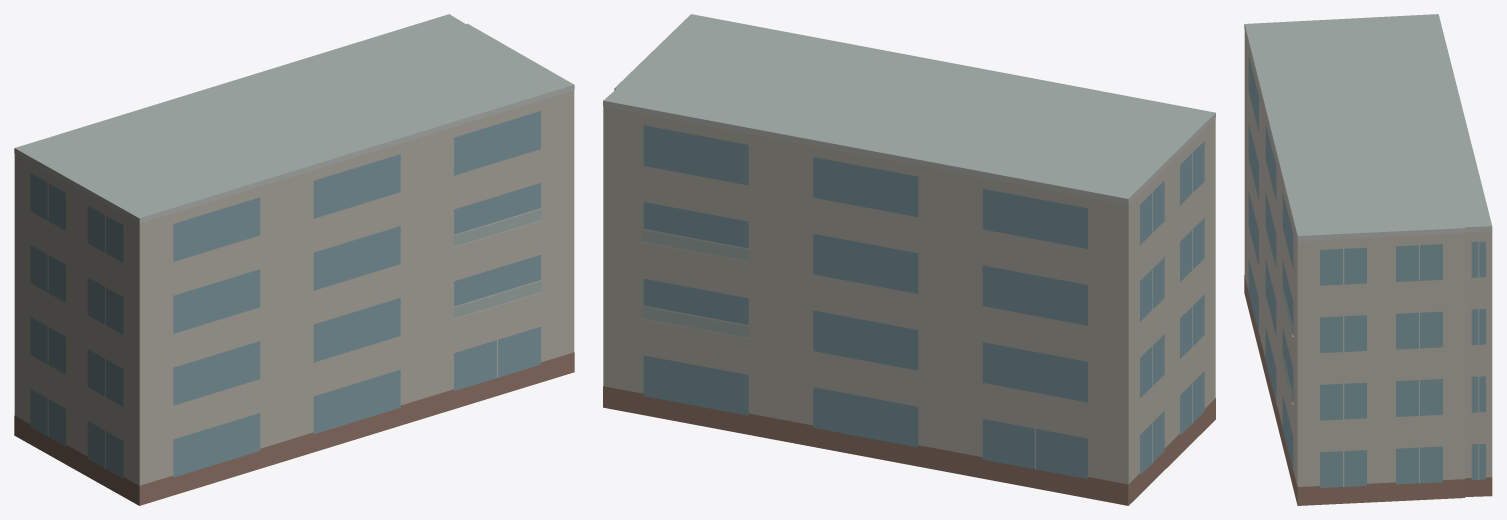
Rendered from survey-upis-32963804.glb.
3 views of the same model, side by side, from view 1: azimuth 30°, elevation 25°; view 2: azimuth 150°, elevation 25°; view 3: azimuth 270°, elevation 25° (orthographic). The views are drawn at different scales.
Visible parts, largest first — view 1: survey-upis-32963804.tmp; view 2: survey-upis-32963804.tmp; view 3: survey-upis-32963804.tmp.
Part boxes in pixels (x1,y1,x2,y2): survey-upis-32963804.tmp: (14,14,574,505); survey-upis-32963804.tmp: (603,14,1215,505); survey-upis-32963804.tmp: (1244,14,1492,505).
Size of the model in its own units: 22.87 by 12.95 by 10.79.
